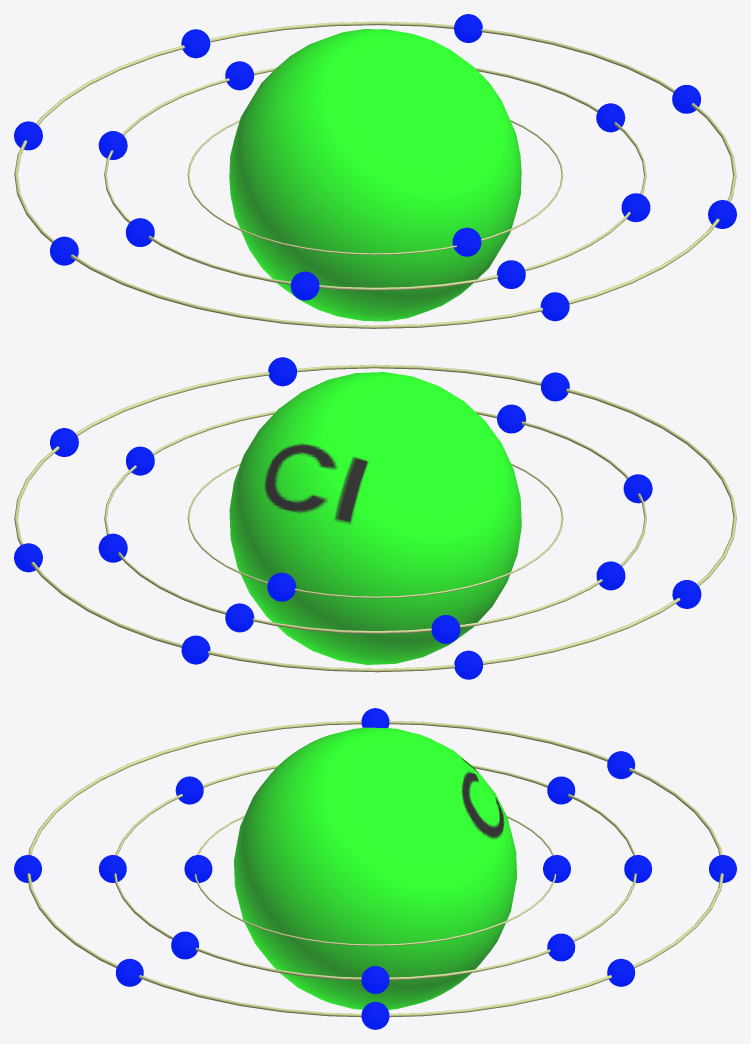
3 renders of one model, top to bottom at view 1: azimuth 30°, elevation 25°; view 2: azimuth 150°, elevation 25°; view 3: azimuth 270°, elevation 25°, orthographic. The views are drawn at different scales.
Visible parts, largest first — view 1: 球体, 贝塞尔圆环.002, 贝塞尔圆环.001, 贝塞尔圆环, 球体.008, 球体.004, 球体.009, 球体.012, 球体.003, 球体.007, 球体.016, 球体.006 (+7 smaller); view 2: 球体, 贝塞尔圆环.002, 贝塞尔圆环.001, 贝塞尔圆环, 球体.005, 球体.001, 球体.007, 球体.003, 球体.009, 球体.017, 球体.015, 球体.012 (+7 smaller); view 3: 球体, 贝塞尔圆环.002, 贝塞尔圆环.001, 贝塞尔圆环, 球体.014, 球体.011, 球体.010, 球体.002, 球体.008, 球体.005, 球体.004, 球体.001 (+7 smaller).
Boxes of the visible parts, bbox=[...] form: 球体: bbox=[229, 29, 521, 321]; 贝塞尔圆环.002: bbox=[14, 21, 736, 328]; 贝塞尔圆环.001: bbox=[104, 67, 646, 290]; 贝塞尔圆环: bbox=[187, 119, 563, 255]; 球体.008: bbox=[290, 271, 319, 300]; 球体.004: bbox=[452, 227, 481, 256]; 球体.009: bbox=[496, 260, 525, 288]; 球体.012: bbox=[540, 292, 569, 321]; 球体.003: bbox=[181, 29, 210, 58]; 球体.007: bbox=[225, 61, 254, 90]; 球体.016: bbox=[454, 14, 482, 42]; 球体.006: bbox=[125, 218, 154, 246]; 球体: bbox=[229, 372, 521, 664]; 贝塞尔圆环.002: bbox=[14, 364, 736, 672]; 贝塞尔圆环.001: bbox=[104, 411, 646, 633]; 贝塞尔圆环: bbox=[187, 463, 563, 598]; 球体.005: bbox=[431, 615, 460, 643]; 球体.001: bbox=[267, 572, 296, 601]; 球体.007: bbox=[225, 603, 254, 632]; 球体.003: bbox=[181, 635, 210, 664]; 球体.009: bbox=[497, 404, 525, 433]; 球体.017: bbox=[268, 357, 296, 386]; 球体.015: bbox=[454, 650, 482, 679]; 球体.012: bbox=[541, 372, 569, 401]; 球体: bbox=[234, 727, 516, 1009]; 贝塞尔圆环.002: bbox=[27, 720, 723, 1017]; 贝塞尔圆环.001: bbox=[114, 765, 636, 980]; 贝塞尔圆环: bbox=[194, 815, 556, 946]; 球体.014: bbox=[361, 1001, 389, 1029]; 球体.011: bbox=[361, 966, 389, 993]; 球体.010: bbox=[171, 931, 198, 959]; 球体.002: bbox=[547, 933, 575, 961]; 球体.008: bbox=[175, 776, 203, 804]; 球体.005: bbox=[547, 776, 575, 804]; 球体.004: bbox=[184, 855, 212, 882]; 球体.001: bbox=[543, 855, 570, 882].
Size of the model in its own units: 2.42 by 0.9491 by 2.42.
Materials: 9 (1 with a texture image).
